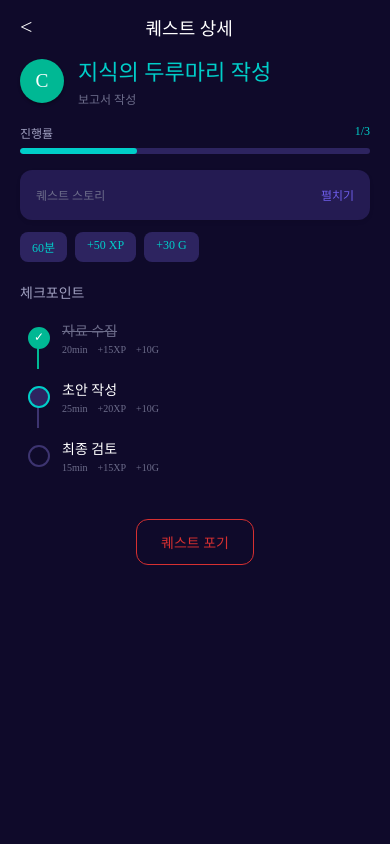
QuestDetailScreen › tapping story card toggles expansion
This screenshot has width=390, height=844.
Click the text "펼치기" at point(337, 195), box x1=321 y1=186 x2=354 y2=204
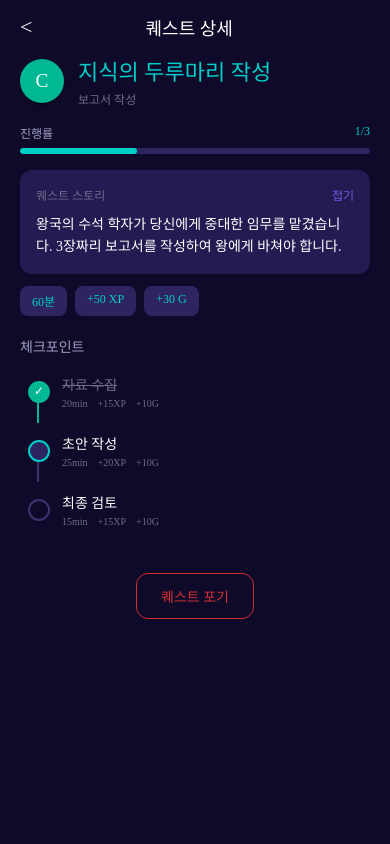
Check: the text "접기" is shown
Check: the text "왕국의 수석 학자가 당신에게 중대한 임무를 맡겼습니다. 3장짜리 보고서를 작성하여 왕에게 바쳐야 합니다." is shown, box x1=36 y1=214 x2=354 y2=258
Click the text "접기" at point(343, 195), box x1=332 y1=186 x2=354 y2=204
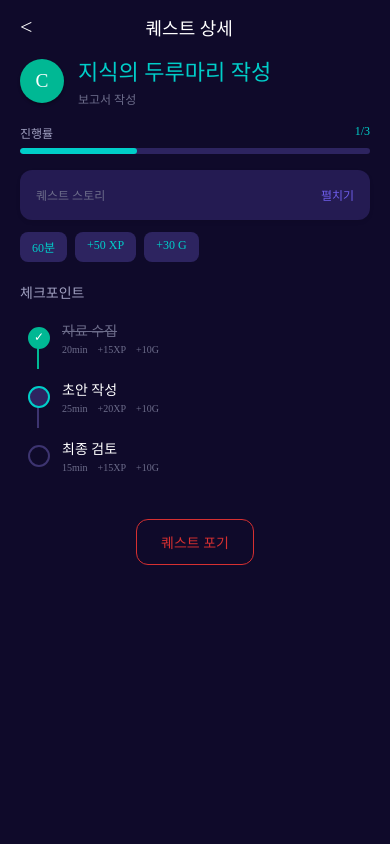
Check: the text "펼치기" is shown, box x1=321 y1=186 x2=354 y2=204
Check: the text "왕국의 수석 학자" is gone
